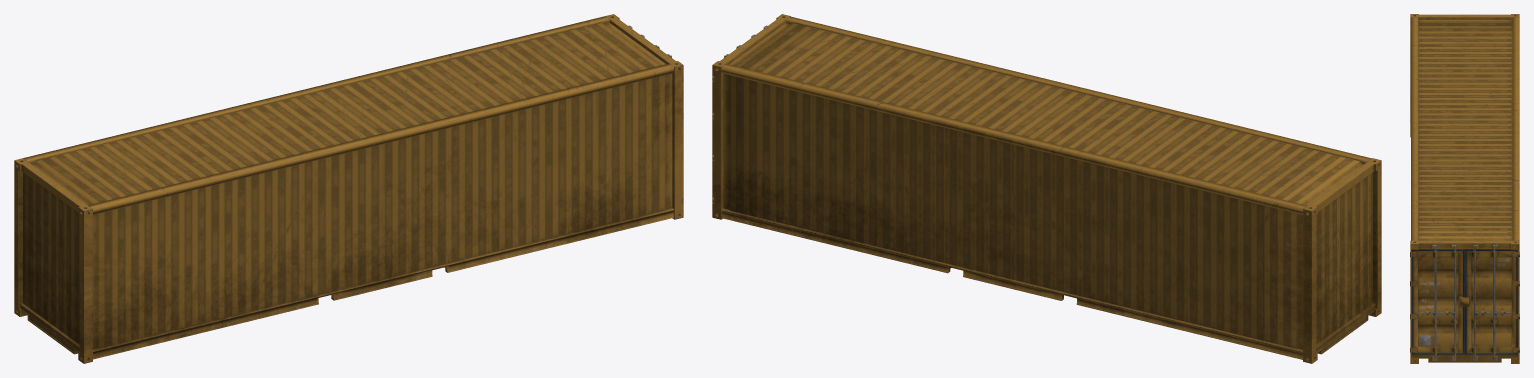
File: 12m_yellow.glb
The picture shows the model from 3 angles, left to right: view 1: azimuth 30°, elevation 25°; view 2: azimuth 150°, elevation 25°; view 3: azimuth 270°, elevation 25°; orthographic projection. The views are drawn at different scales.
Visible parts, largest first — view 1: Object_102; view 2: Object_102; view 3: Object_102.
Boxes of the visible parts, <box> form: Object_102: <box>14,14,683,363</box>; Object_102: <box>712,14,1381,363</box>; Object_102: <box>1410,14,1519,363</box>.
Bounding box in the file's own units: 12.07 × 2.92 × 2.43.
1 material, 1 textured.
